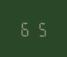five: (33, 19, 46, 37)
six: (19, 19, 32, 36)
